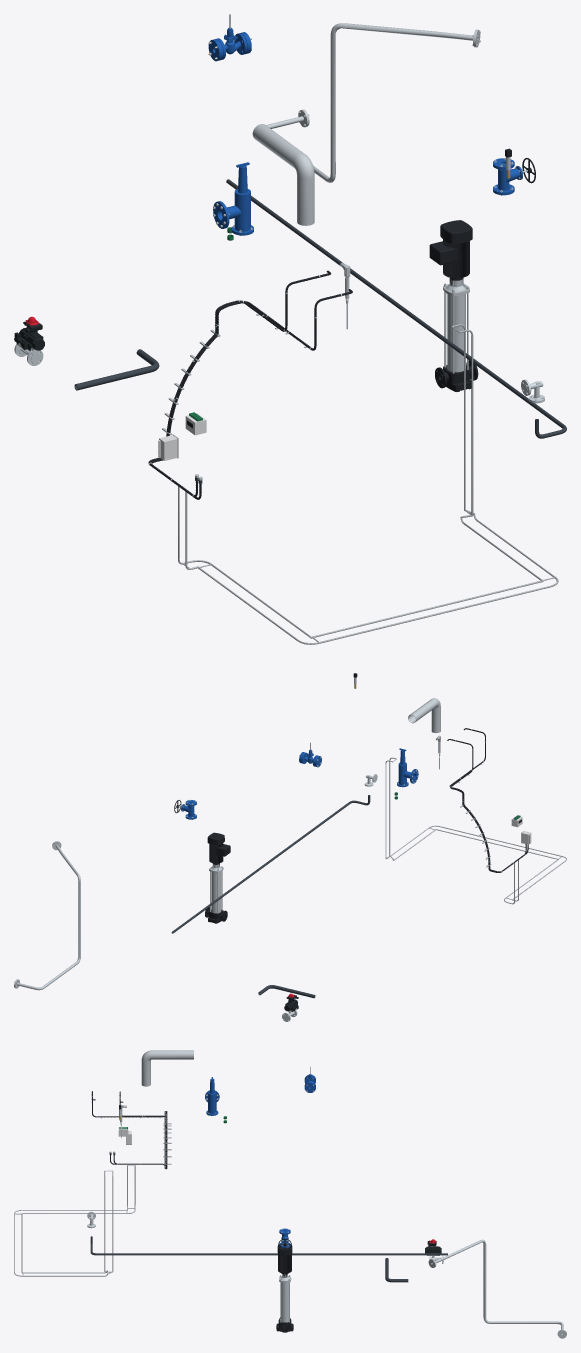
File: s4000-6-CFteQFCI.glb
3 views of the same model, one above another, from view 1: azimuth 30°, elevation 25°; view 2: azimuth 150°, elevation 25°; view 3: azimuth 270°, elevation 25° (orthographic). The views are drawn at different scales.
Visible parts, largest first — view 1: cables / zinc, trap_gap_to_bdv / steel, steam_rise / steel, tds_common / dark, pump_2 CAD solid 15, safety_2 / blue, pump_2 CAD solid 2, wiring_low_level_1 / black, bcv7432 / bcv7432_0.npz, wiring_lp400 / black, pump_2 CAD solid 0, bottom_bypass_before / dark; view 2: cables / zinc, trap_gap_to_bdv / steel, tds_common / dark, steam_rise / steel, pump_2 CAD solid 15, safety_2 / blue; view 3: cables / zinc, tds_common / dark, trap_gap_to_bdv / steel, steam_rise / steel, pump_2 CAD solid 15.
Boxes of the visible parts, left/top/right/bottom form: cables / zinc: left=178, top=324, right=558, bottom=644; trap_gap_to_bdv / steel: left=266, top=23, right=480, bottom=182; steam_rise / steel: left=252, top=124, right=314, bottom=225; tds_common / dark: left=226, top=179, right=566, bottom=438; pump_2 CAD solid 15: left=429, top=220, right=472, bottom=279; safety_2 / blue: left=213, top=162, right=253, bottom=235; pump_2 CAD solid 2: left=447, top=294, right=465, bottom=372; wiring_low_level_1 / black: left=150, top=289, right=352, bottom=499; bcv7432 / bcv7432_0.npz: left=14, top=316, right=44, bottom=365; wiring_lp400 / black: left=148, top=270, right=331, bottom=496; pump_2 CAD solid 0: left=435, top=360, right=478, bottom=391; bottom_bypass_before / dark: left=74, top=349, right=159, bottom=390; cables / zinc: left=385, top=757, right=566, bottom=904; trap_gap_to_bdv / steel: left=14, top=841, right=80, bottom=990; tds_common / dark: left=171, top=795, right=370, bottom=933; steam_rise / steel: left=408, top=698, right=440, bottom=733; pump_2 CAD solid 15: left=207, top=832, right=230, bottom=863; safety_2 / blue: left=397, top=748, right=418, bottom=787; cables / zinc: left=14, top=1165, right=135, bottom=1276; tds_common / dark: left=90, top=1236, right=447, bottom=1255; trap_gap_to_bdv / steel: left=428, top=1239, right=566, bottom=1338; steam_rise / steel: left=141, top=1050, right=193, bottom=1086; pump_2 CAD solid 15: left=277, top=1244, right=292, bottom=1273.
Bounding box in the file's own units: 4.54 × 2.94 × 6.78.
